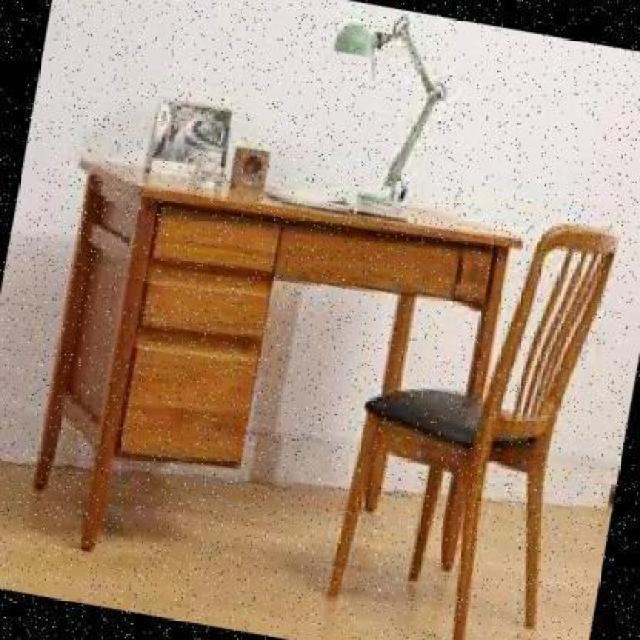tables: (75, 165, 520, 557)
